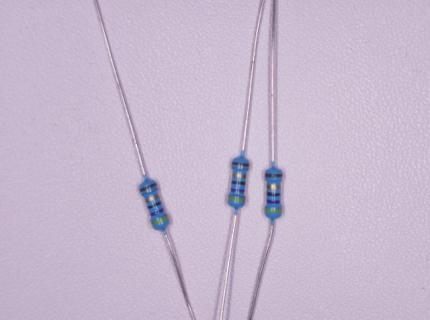Black band: (147, 202, 161, 210), (231, 181, 245, 185), (267, 192, 281, 196)
Brown band: (140, 183, 156, 192), (265, 174, 283, 178), (232, 162, 249, 166)
Gold band: (145, 194, 160, 203), (267, 184, 281, 190), (232, 173, 246, 178)
Violet band: (150, 208, 164, 217), (230, 188, 245, 194), (267, 199, 280, 204)
Yellow band: (151, 216, 169, 226), (228, 196, 245, 203), (265, 209, 282, 213)
